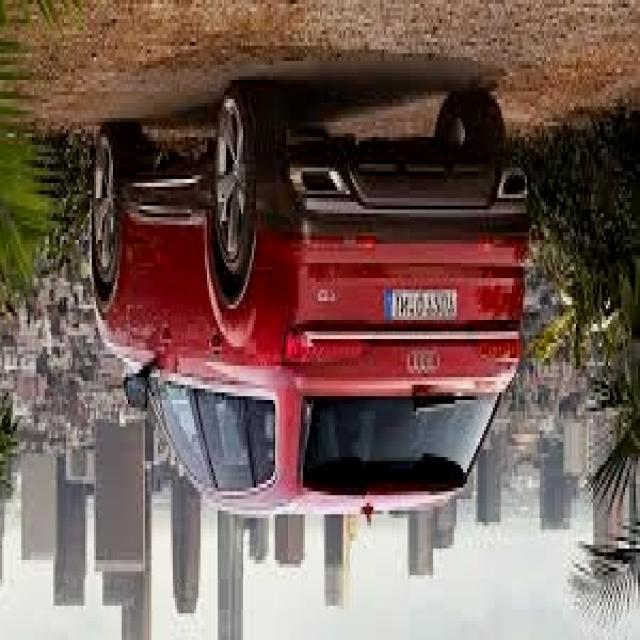red: (84, 74, 536, 516)
